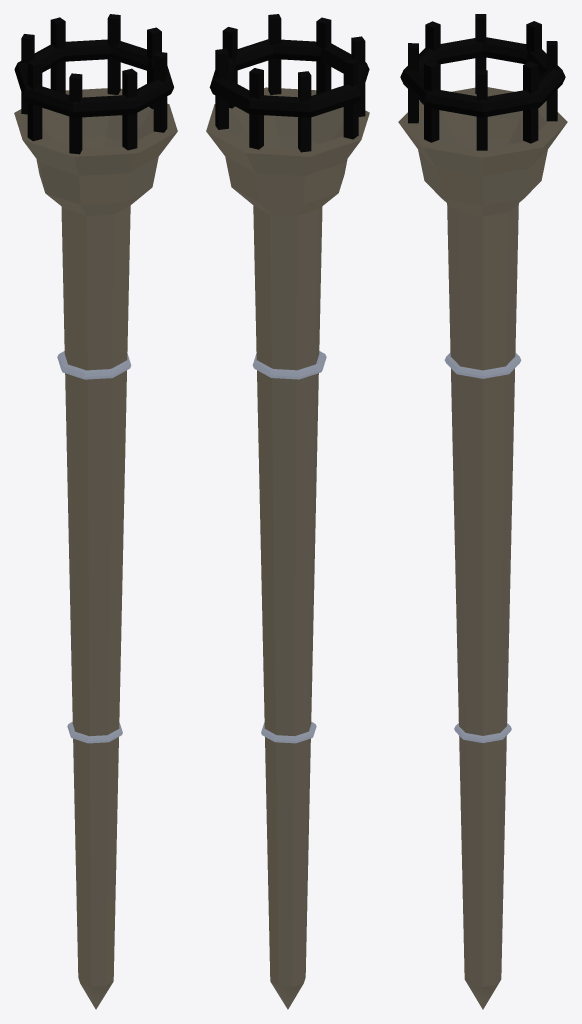
File: Torch.FBX
The picture shows the model from 3 angles, left to right: view 1: azimuth 30°, elevation 25°; view 2: azimuth 150°, elevation 25°; view 3: azimuth 270°, elevation 25°; orthographic projection.
Parts seen in each view (by area): view 1: Torch; view 2: Torch; view 3: Torch.
Part boxes in pixels (x1=…): Torch: x1=14, y1=14, x2=177, y2=1009; Torch: x1=206, y1=14, x2=369, y2=1009; Torch: x1=398, y1=14, x2=567, y2=1009.
Bounding box in the file's own units: 1.82 × 11.43 × 1.82.
